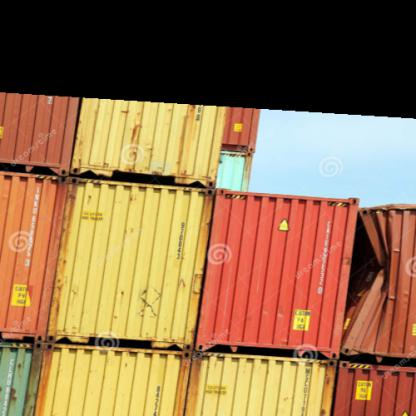Damage: (334, 204, 404, 379), (326, 199, 399, 348), (125, 106, 154, 167), (134, 280, 164, 320)
